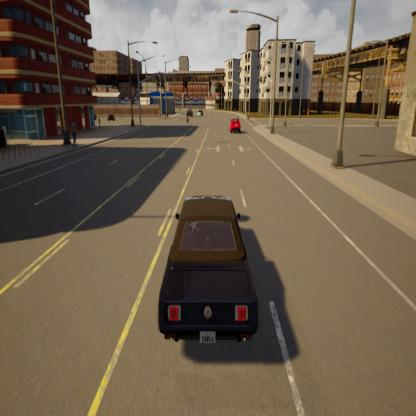Cars: (152, 194, 258, 348), (228, 113, 245, 139)
Pedestrian: (68, 118, 79, 152), (185, 113, 190, 130)
